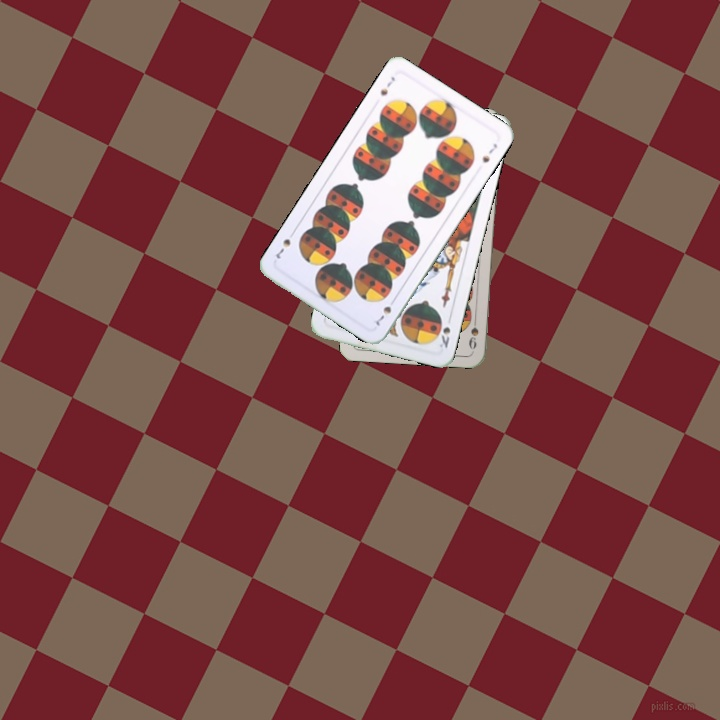S7: (369, 294, 399, 328), (376, 72, 398, 99)
S9: (465, 311, 481, 352)
SK: (435, 312, 454, 351)
